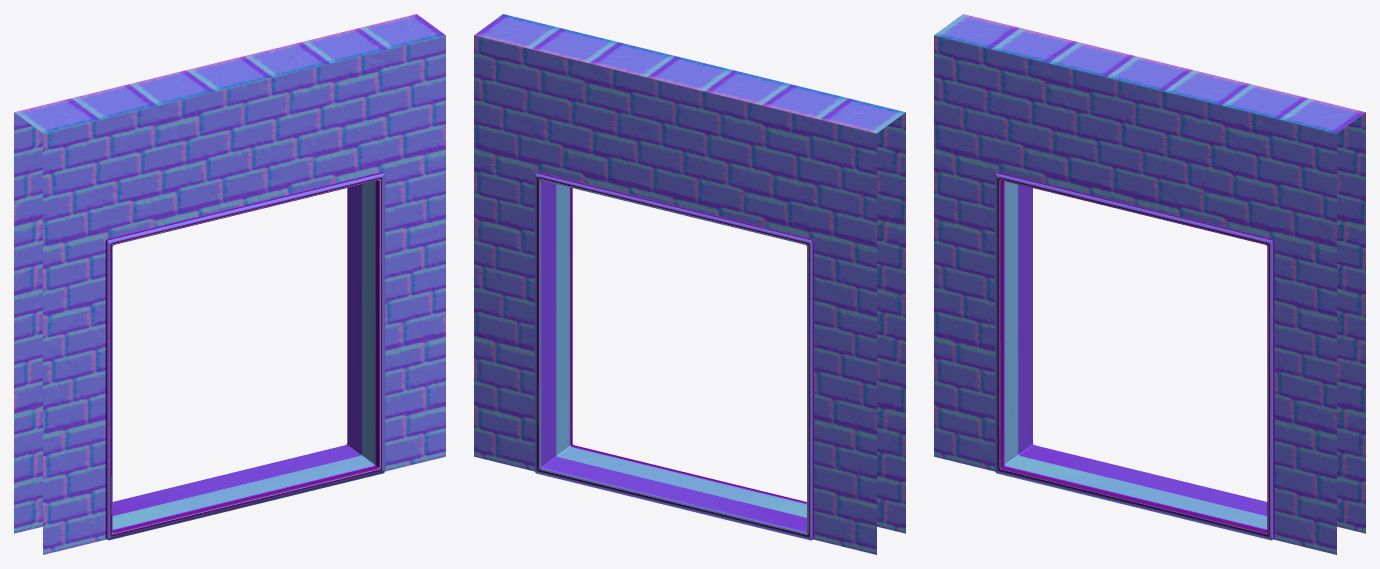
File: sm_wall_straight_02.fbx
3 renders of one model, left to right at view 1: azimuth 30°, elevation 25°; view 2: azimuth 150°, elevation 25°; view 3: azimuth 330°, elevation 25°, orthographic.
Visible parts, largest first — view 1: sm_wall_straight_02; view 2: sm_wall_straight_02; view 3: sm_wall_straight_02.
Boxes of the visible parts, box(x1,y1,x2,y2) form: sm_wall_straight_02: box(14, 14, 445, 554); sm_wall_straight_02: box(474, 14, 905, 554); sm_wall_straight_02: box(934, 14, 1365, 554).
Bounding box in the file's own units: 400 × 400 × 55.8.
1 material, 1 textured.
